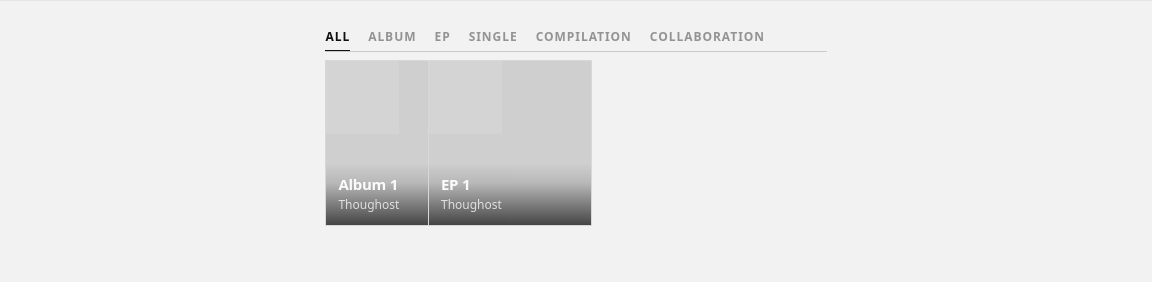
Test: ReleaseTabs › filters the wall when a category is selected
The image size is (1152, 299).
Step 1. Click the button "Album" → [392, 37], box [368,31,416,43]
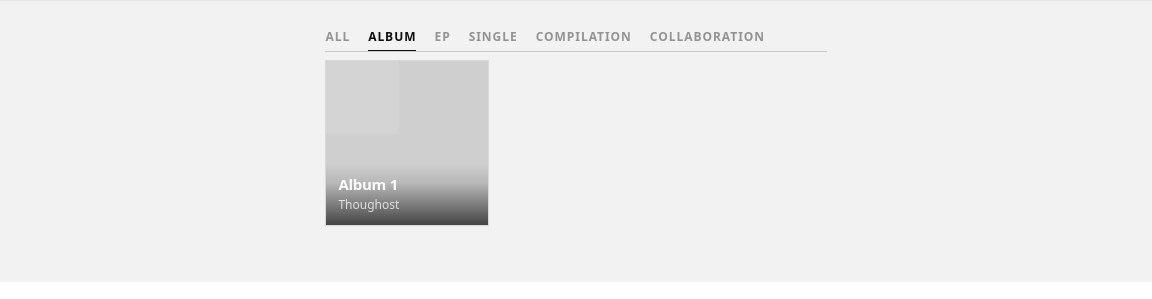
Expected: the text "Album 1" is shown, [338,174,398,194]
Expected: the link "EP 1" is gone
